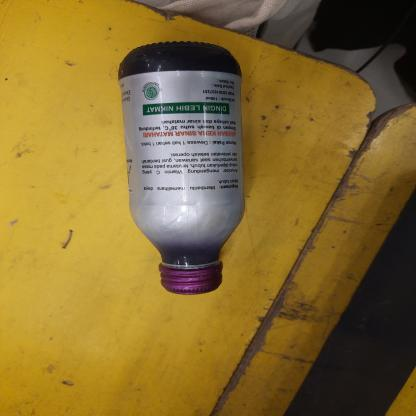keyboard: (112, 35, 254, 298)
